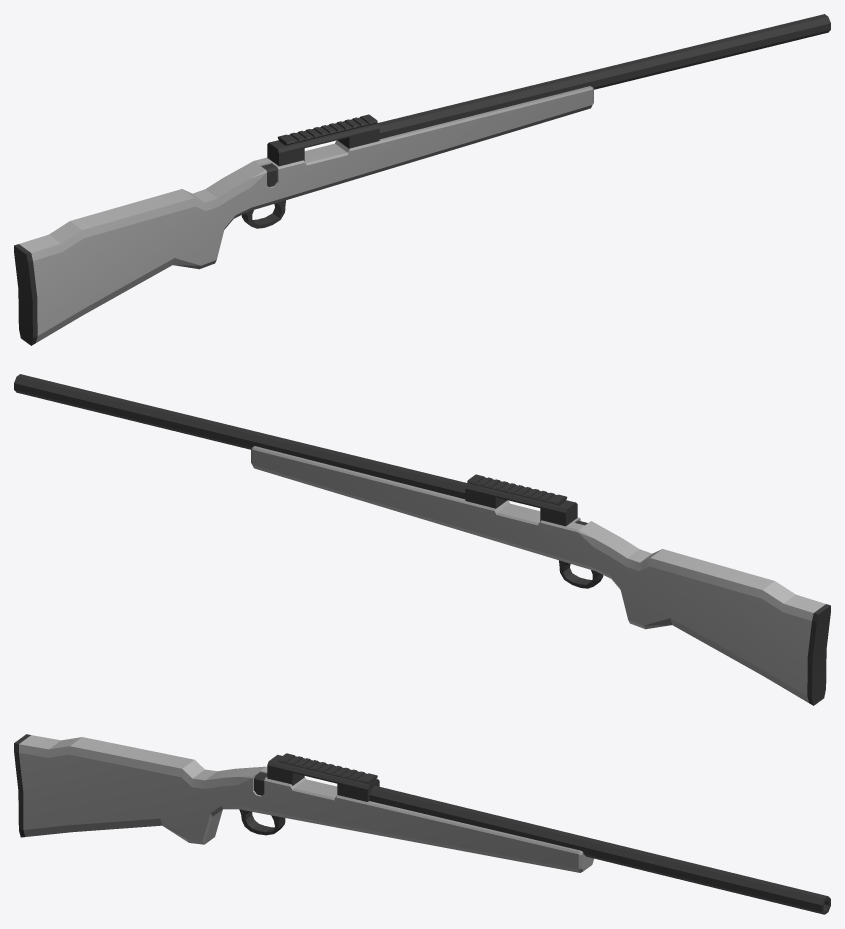
File: SniperRifle3_06.fbx
The picture shows the model from 3 angles, top to bottom: view 1: azimuth 30°, elevation 25°; view 2: azimuth 150°, elevation 25°; view 3: azimuth 330°, elevation 25°; orthographic projection.
Parts seen in each view (by area): view 1: SniperRifle3_06; view 2: SniperRifle3_06; view 3: SniperRifle3_06.
Boxes of the visible parts, x1=… form: SniperRifle3_06: x1=14, y1=14, x2=830, y2=345; SniperRifle3_06: x1=14, y1=374, x2=830, y2=705; SniperRifle3_06: x1=14, y1=734, x2=830, y2=914.
Size of the model in its own units: 1.22 by 0.2029 by 0.0371.
